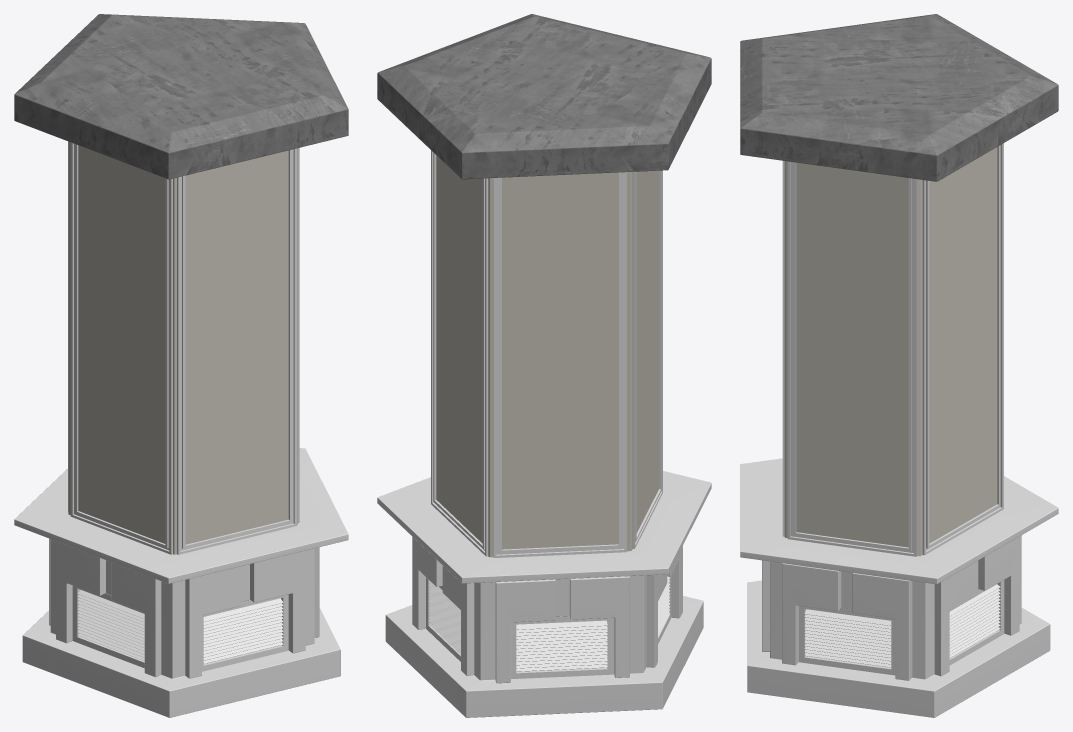
File: oxygen.cylinder.fbx
3 renders of one model, left to right at view 1: azimuth 30°, elevation 25°; view 2: azimuth 150°, elevation 25°; view 3: azimuth 270°, elevation 25°, orthographic.
Parts seen in each view (by area): view 1: Sci-Fi Capsule.001; view 2: Sci-Fi Capsule.001; view 3: Sci-Fi Capsule.001.
Part boxes in pixels (x1,y1,x2,y2): Sci-Fi Capsule.001: (14,14,348,717); Sci-Fi Capsule.001: (377,14,711,717); Sci-Fi Capsule.001: (740,14,1058,717).
Bounding box in the file's own units: 96.73 × 183 × 92.03.
Materials: 8 (1 with a texture image).
